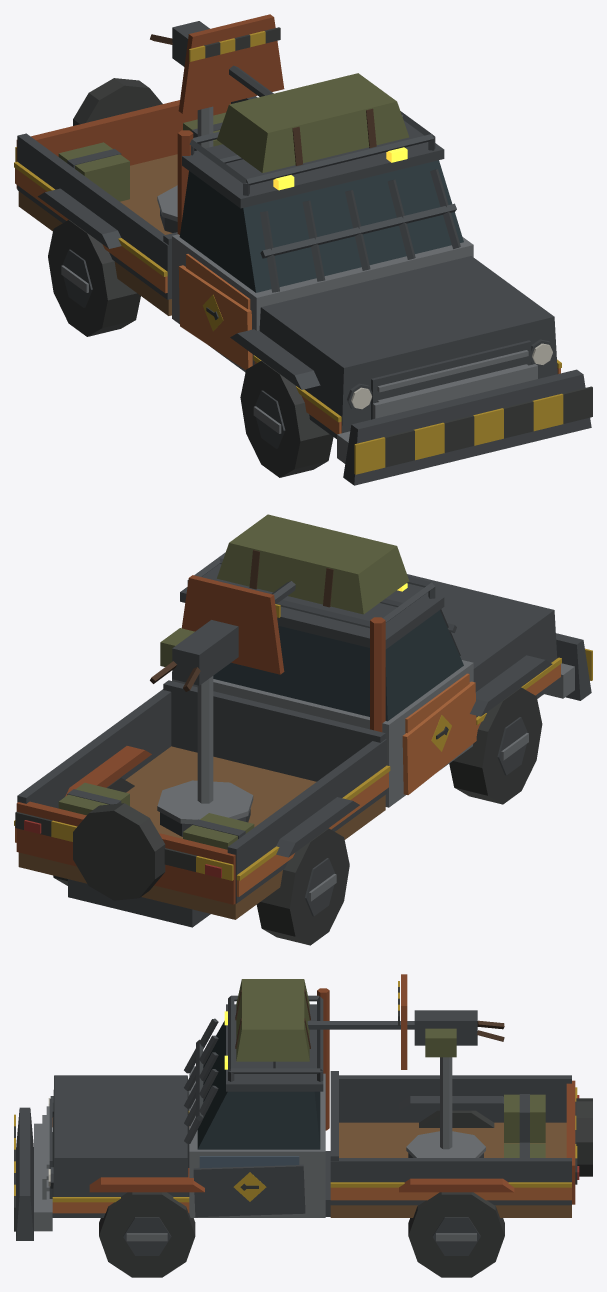
Rendered from long_haul_gun_truck.glb.
3 renders of one model, top to bottom at view 1: azimuth 30°, elevation 25°; view 2: azimuth 150°, elevation 25°; view 3: azimuth 270°, elevation 25°, orthographic. The views are drawn at different scales.
Parts seen in each view (by area): view 1: body, wheel_rr, wheel_fr; view 2: body, wheel_rr, wheel_fr; view 3: body, wheel_fl, wheel_rl, wheel_rr.
Part boxes in pixels (bbox=[...]): body: bbox=[14, 14, 592, 485]; wheel_rr: bbox=[48, 220, 140, 336]; wheel_fr: bbox=[240, 361, 333, 477]; body: bbox=[14, 514, 592, 927]; wheel_rr: bbox=[256, 828, 349, 945]; wheel_fr: bbox=[449, 687, 542, 804]; body: bbox=[14, 974, 592, 1240]; wheel_fl: bbox=[99, 1192, 195, 1277]; wheel_rl: bbox=[408, 1192, 504, 1277]; wheel_rr: bbox=[419, 1110, 494, 1127].
Bounding box in the file's own units: 2.22 × 2.53 × 5.52.
